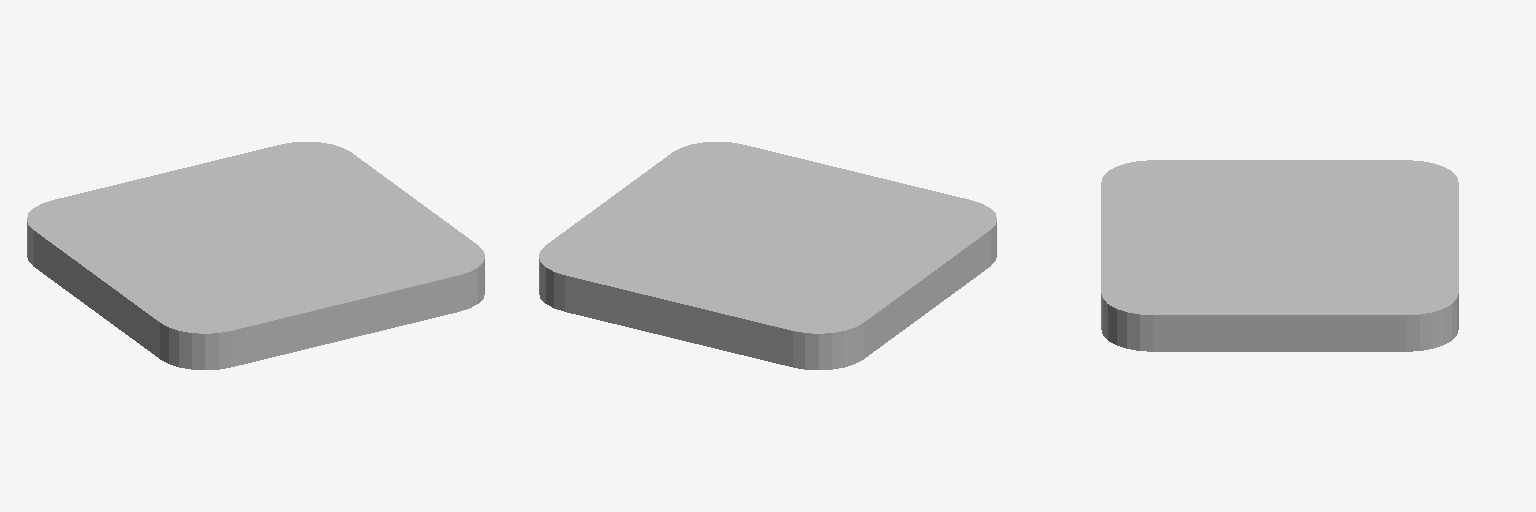
File: original-46.obj
3 renders of one model, left to right at view 1: azimuth 30°, elevation 25°; view 2: azimuth 150°, elevation 25°; view 3: azimuth 270°, elevation 25°, orthographic.
Visible parts, largest first — view 1: mesh45/mesh45-geometry#mesh45-geometry; view 2: mesh45/mesh45-geometry#mesh45-geometry; view 3: mesh45/mesh45-geometry#mesh45-geometry.
Part boxes in pixels (x1,y1,x2,y2): mesh45/mesh45-geometry#mesh45-geometry: (27, 142, 484, 369); mesh45/mesh45-geometry#mesh45-geometry: (539, 142, 996, 369); mesh45/mesh45-geometry#mesh45-geometry: (1101, 160, 1458, 351).
Bounding box in the file's own units: 0.0583 × 0.0064 × 0.0568.